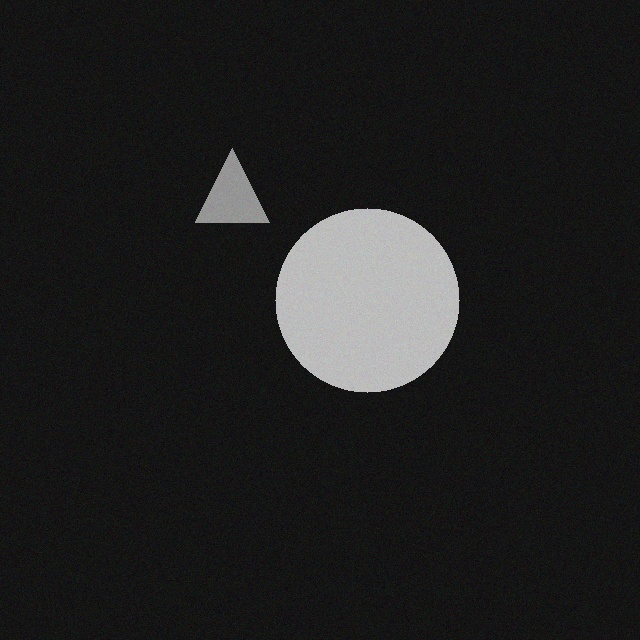circle: (286, 223, 470, 407)
triangle: (206, 163, 280, 237)
